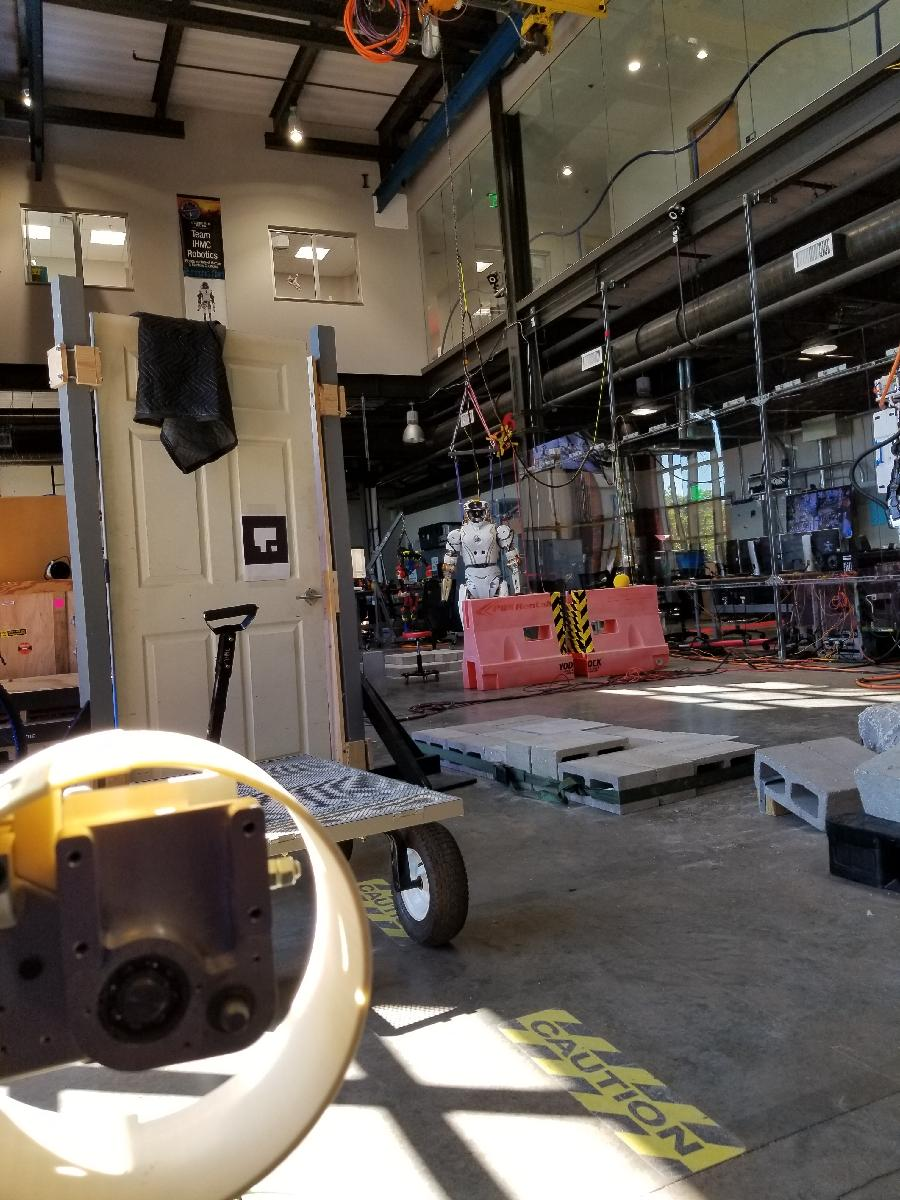door: (85, 307, 343, 854)
doorHandle: (293, 585, 324, 609)
